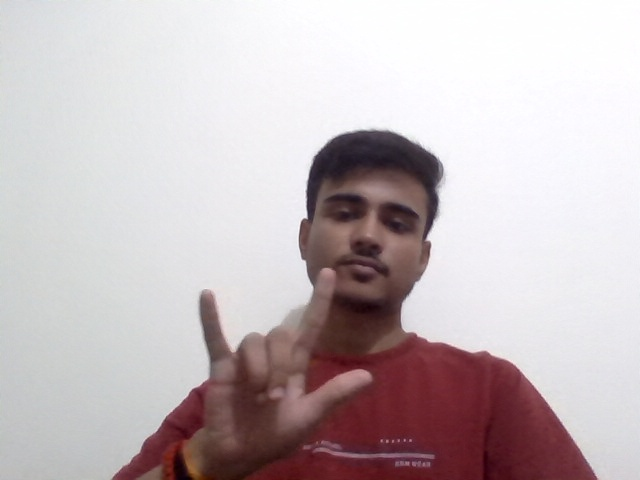I_Love_You: (142, 252, 397, 480)
